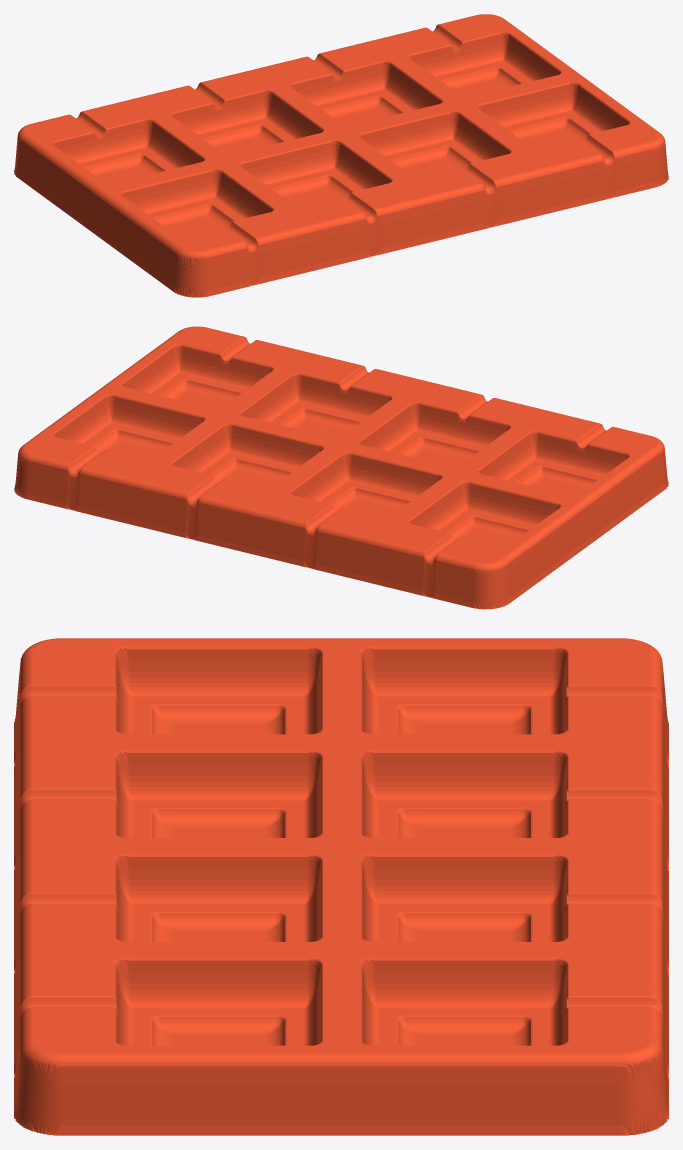
File: mold.glb
3 renders of one model, top to bottom at view 1: azimuth 30°, elevation 25°; view 2: azimuth 150°, elevation 25°; view 3: azimuth 270°, elevation 25°, orthographic. The views are drawn at different scales.
Parts seen in each view (by area): view 1: geometry_0; view 2: geometry_0; view 3: geometry_0.
Boxes of the visible parts, x1,y1,x2,y2 form: geometry_0: (14,14,668,297); geometry_0: (14,326,668,609); geometry_0: (14,638,668,1135).
Size of the model in its own units: 0.1907 by 0.0155 by 0.1229.
